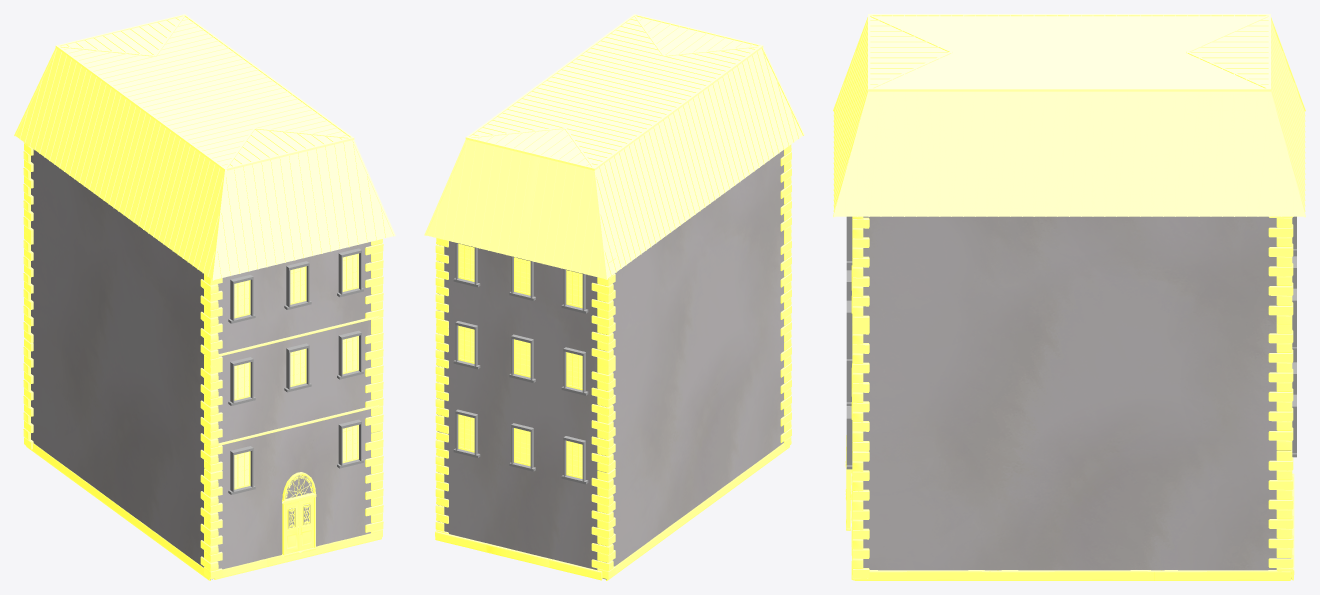
File: Building 02 re.fbx
3 renders of one model, left to right at view 1: azimuth 30°, elevation 25°; view 2: azimuth 150°, elevation 25°; view 3: azimuth 270°, elevation 25°, orthographic. The views are drawn at different scales.
Visible parts, largest first — view 1: LOD_0; view 2: LOD_0; view 3: LOD_0.
Boxes of the visible parts, x1,y1,x2,y2 form: LOD_0: (14, 14, 395, 580); LOD_0: (424, 14, 804, 580); LOD_0: (833, 14, 1305, 580).
Size of what is drawn, in the model's own units: 242 by 508 by 454.
